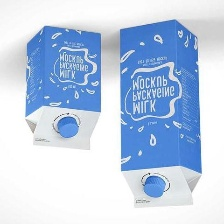carton: (114, 17, 207, 213), (20, 24, 105, 154)
